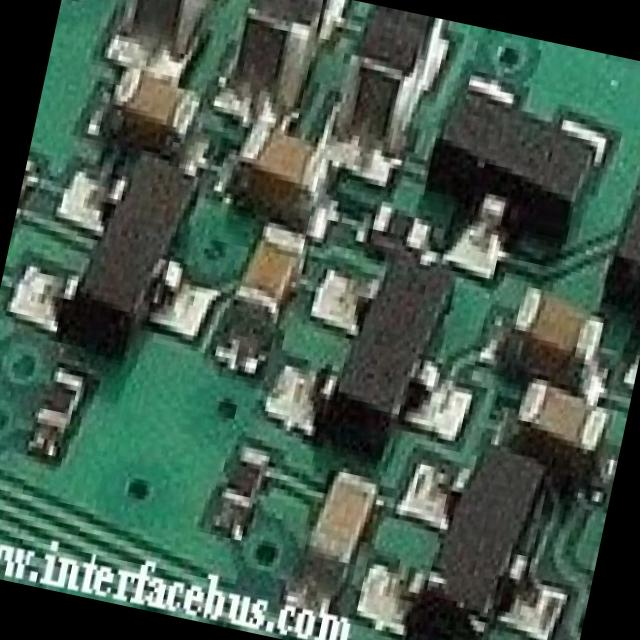capacitor: (500, 276, 618, 391), (226, 113, 339, 221), (224, 215, 306, 362), (506, 368, 614, 464), (297, 458, 376, 586), (99, 58, 209, 146)
resistor: (209, 443, 268, 535), (28, 363, 81, 449)
transistor: (410, 64, 612, 278), (293, 233, 477, 466), (394, 429, 585, 640), (41, 129, 216, 338)
